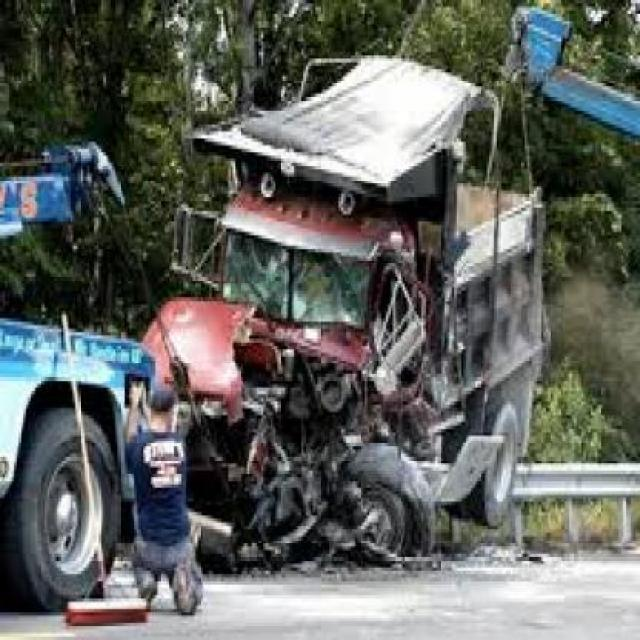accident: (128, 41, 552, 593)
